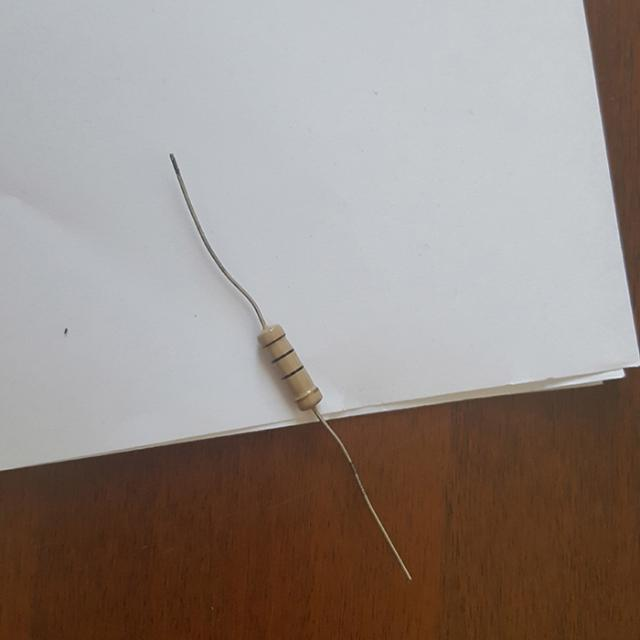black: (271, 347, 294, 363), (280, 364, 304, 379)
brown: (261, 331, 285, 347)
gold: (295, 387, 318, 404)
resistor: (239, 311, 338, 420)
